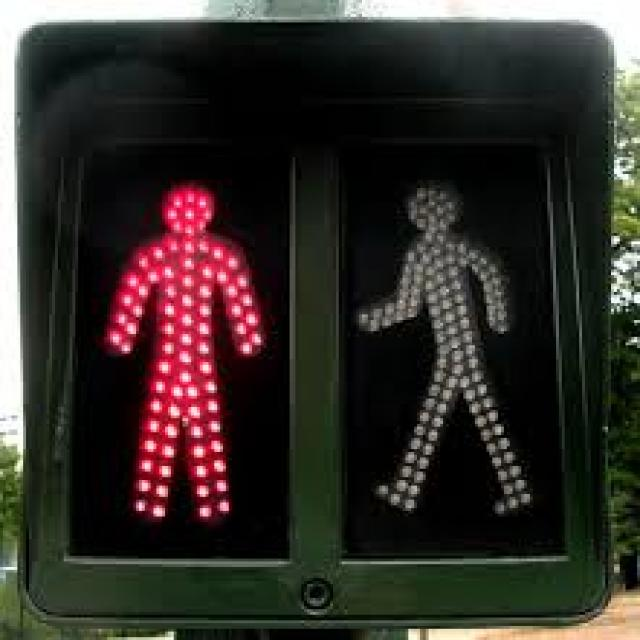Not go: (43, 115, 611, 590), (71, 142, 320, 604)
